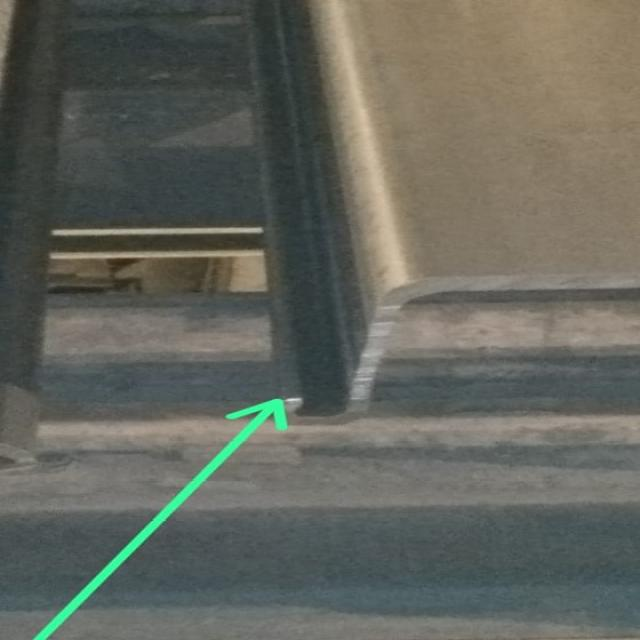defect: (254, 0, 367, 414)
